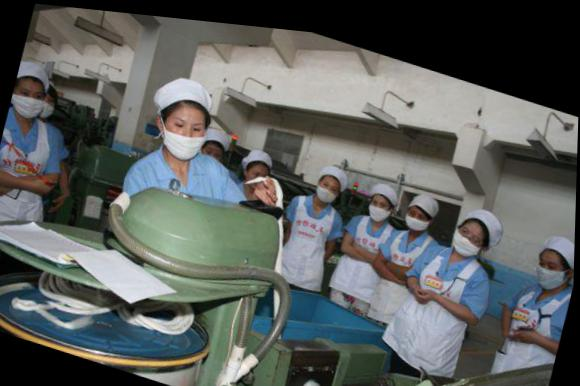NONE: (245, 161, 272, 187), (201, 140, 225, 165)
OK: (528, 234, 576, 285), (9, 80, 47, 124), (451, 213, 487, 252), (406, 198, 434, 227), (32, 90, 57, 121), (369, 187, 393, 216), (316, 174, 342, 200)
WRONG: (162, 108, 210, 159)
